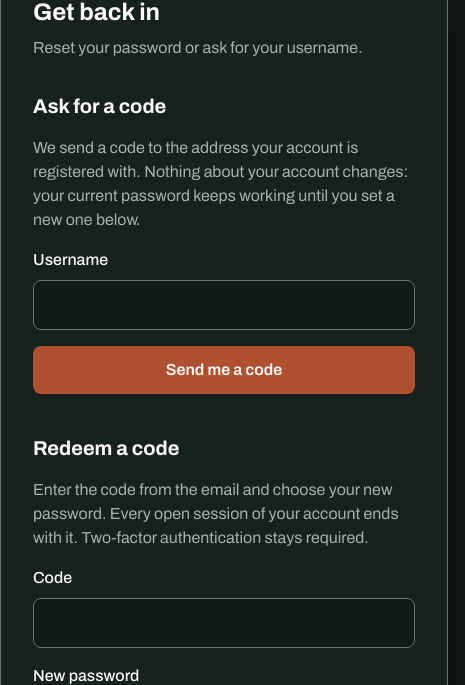
Scenario: AccountRecoveryView › given a request that was sent, when the next one is refused, then the page no longer says it was sent
In the field with test id "recovery-username": (224, 305) [33,280,415,330], type "doe.jane"
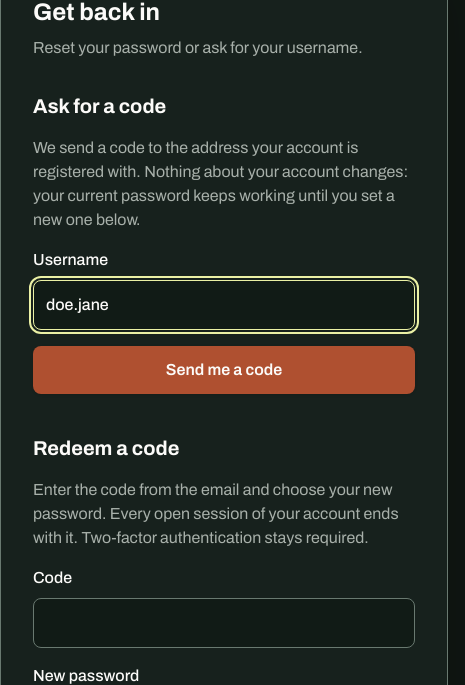
Click the button with test id "recovery-password-submit": (224, 370) [33,346,415,394]
(page scrolled)
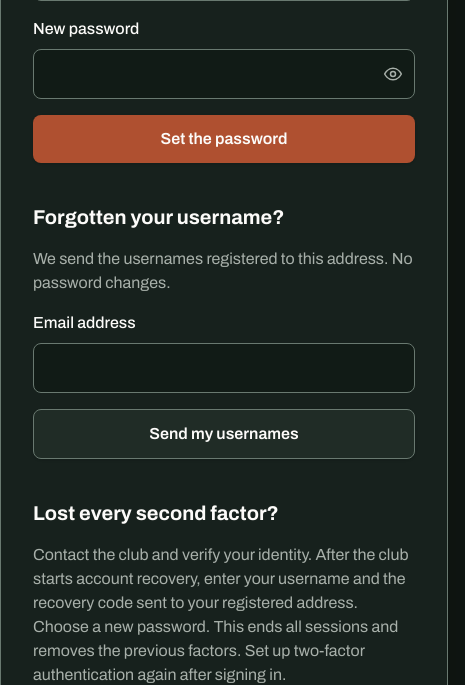
In the field with test id "recovery-email": (224, 368) [33,343,415,393], type "roe@example.org"
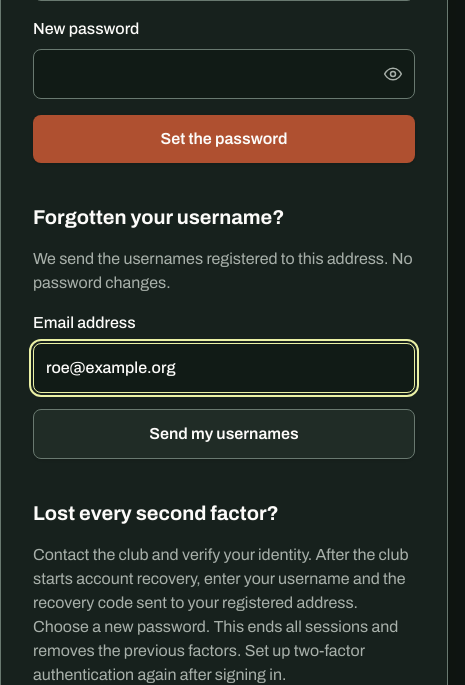
Click the button with test id "recovery-usernames-submit": (224, 434) [33,409,415,459]
(page scrolled)
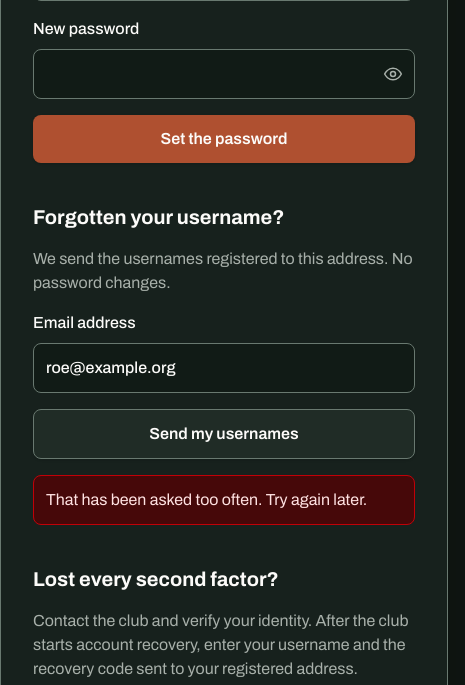
Expected: the message reads "That has been asked too often. Try again later.", [46,491,367,508]
